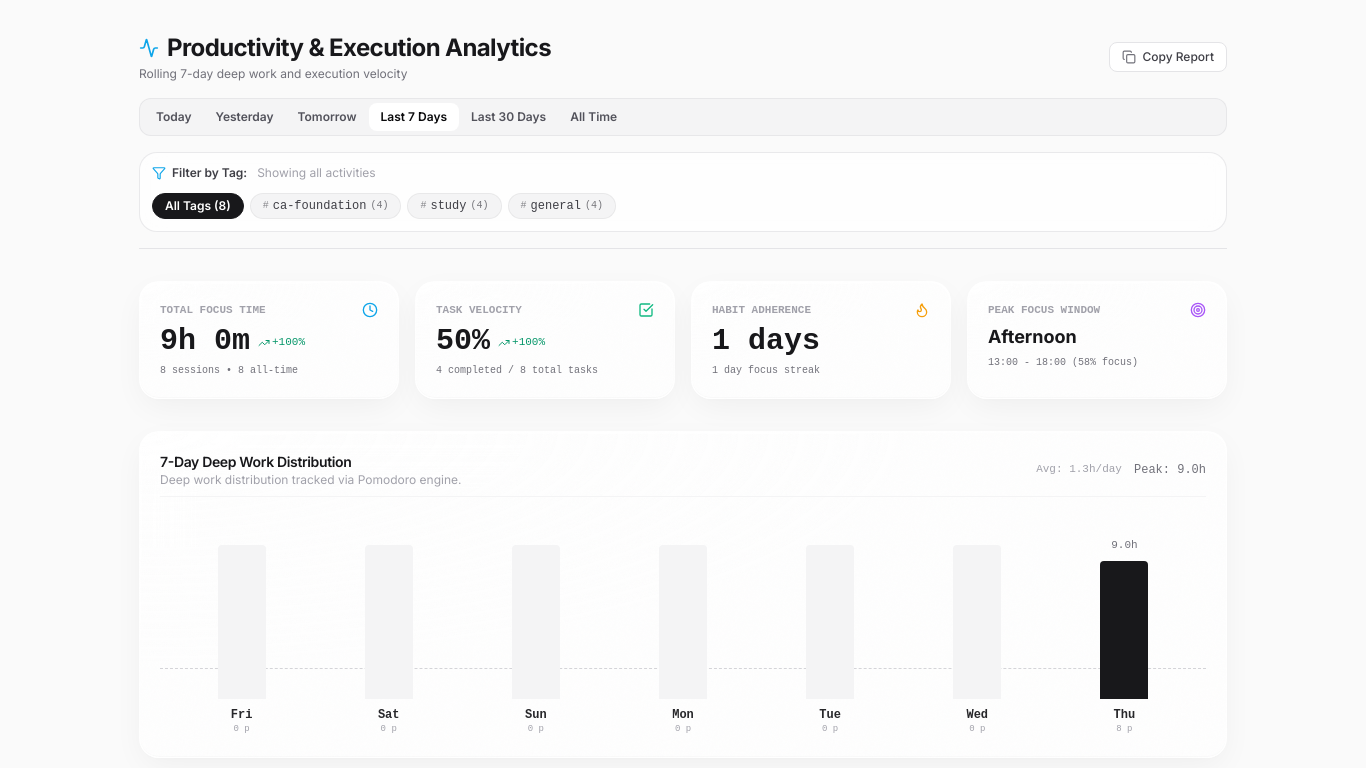
it: NAYRA Decluttered Analytics (v2.5.1) — Component Integration & Full Task Breakdown › copies executive markdown report on Copy Report click
Click the button "Copy Report". click: (1168, 57)
box: [1109,42,1227,72]
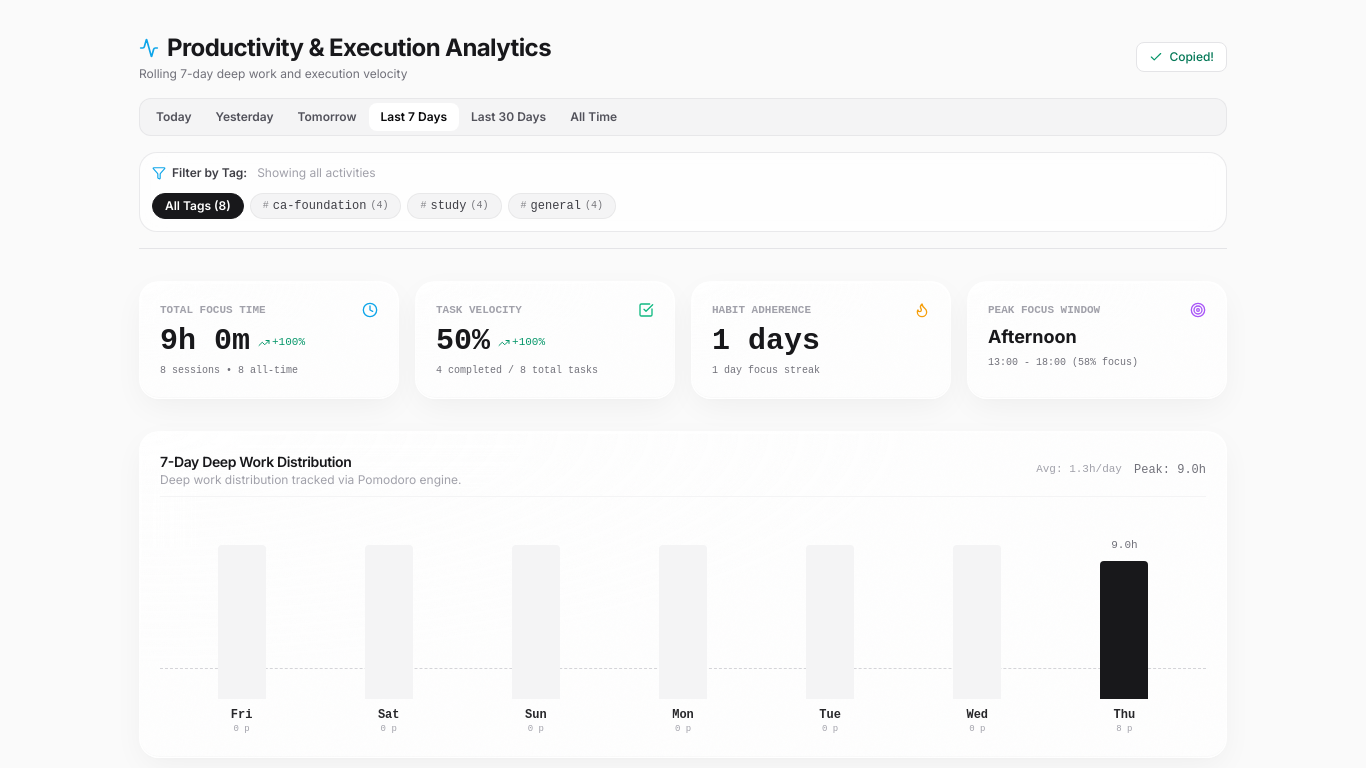
Now the text "Copied!" is shown, box [1169,49,1214,65]
